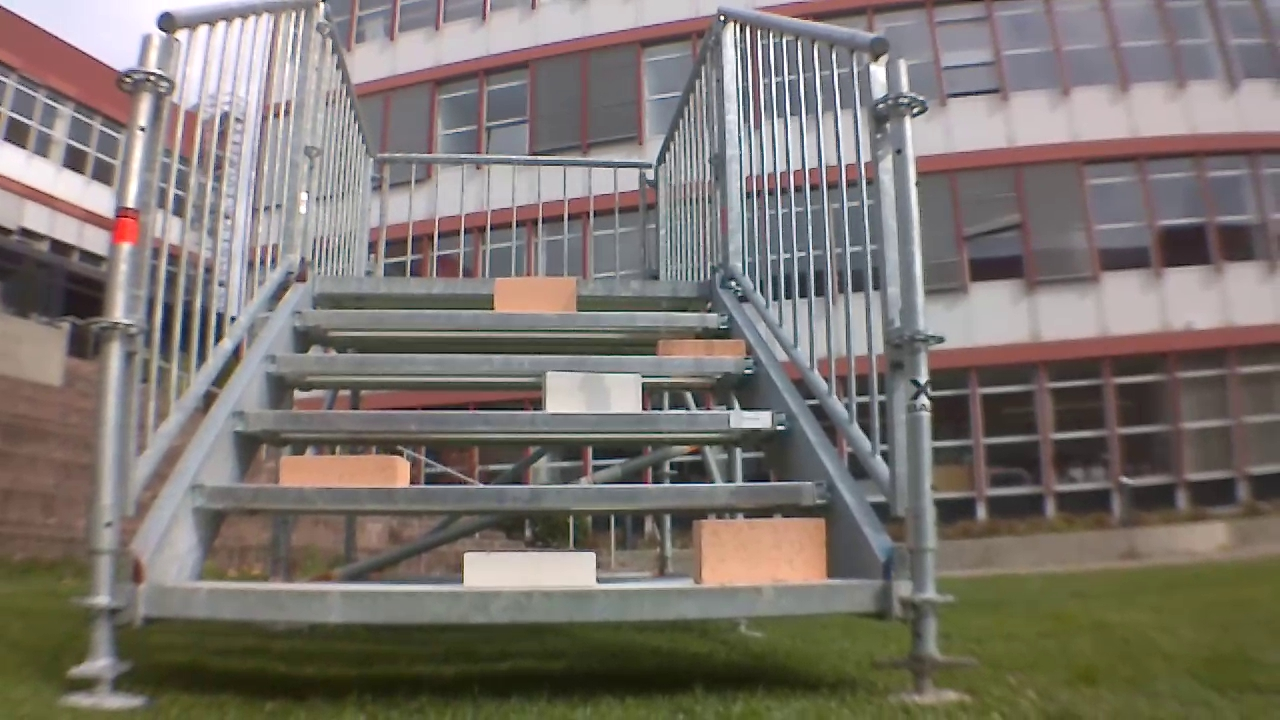brick: (691, 520, 833, 585), (459, 549, 603, 586), (275, 454, 406, 490), (543, 371, 646, 415), (491, 274, 575, 309), (656, 339, 754, 361)
edge: (140, 577, 884, 616), (190, 478, 835, 514), (229, 410, 795, 436), (257, 355, 754, 380), (286, 310, 729, 331), (313, 278, 711, 295)
stairs: (108, 0, 932, 641)
steps: (133, 277, 885, 618)
